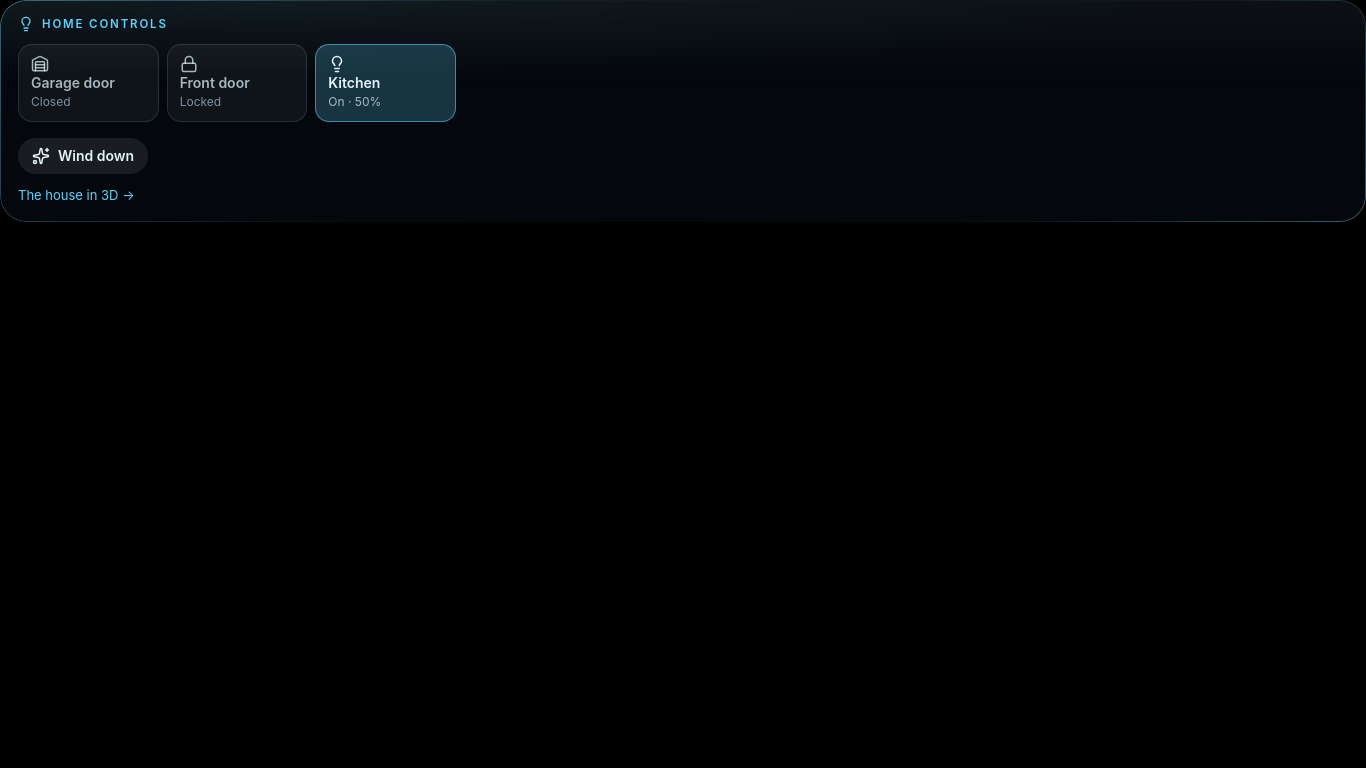
Test: <HomeControlsWidget /> › toggles a light at once, asks before the garage, and runs scenes
This screenshot has width=1366, height=768.
Click the button with aria-label "Kitchen: On · 50%" at coordinates (386, 83), box x1=315 y1=44 x2=456 y2=122
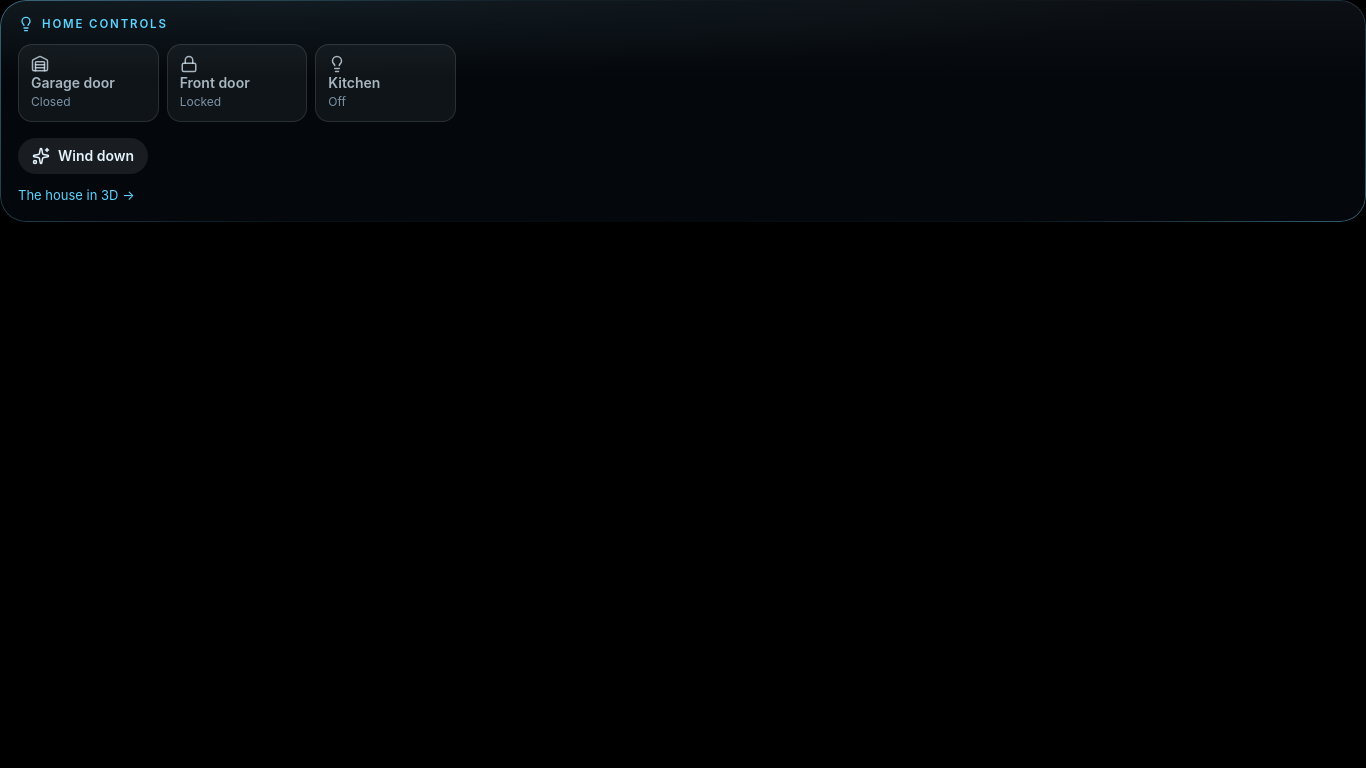
Expected: the button with aria-label "Kitchen: Off" is shown, x1=315 y1=44 x2=456 y2=122
Click the button with aria-label "Garage door: Closed" at coordinates (88, 83), box x1=18 y1=44 x2=159 y2=122
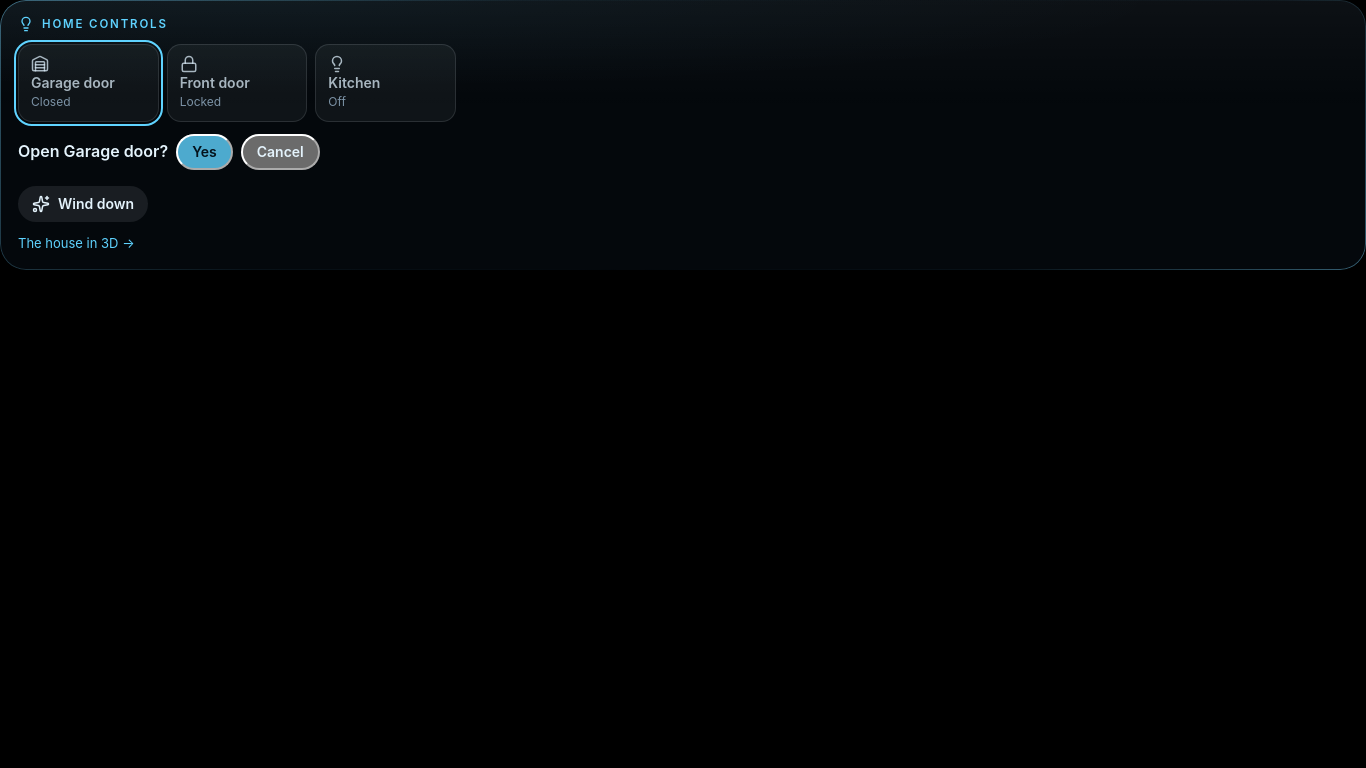
Expected: the dialog "Open Garage door?" is shown, x1=18 y1=134 x2=320 y2=170
Click the button "Yes" at coordinates (204, 152), box x1=176 y1=134 x2=233 y2=170
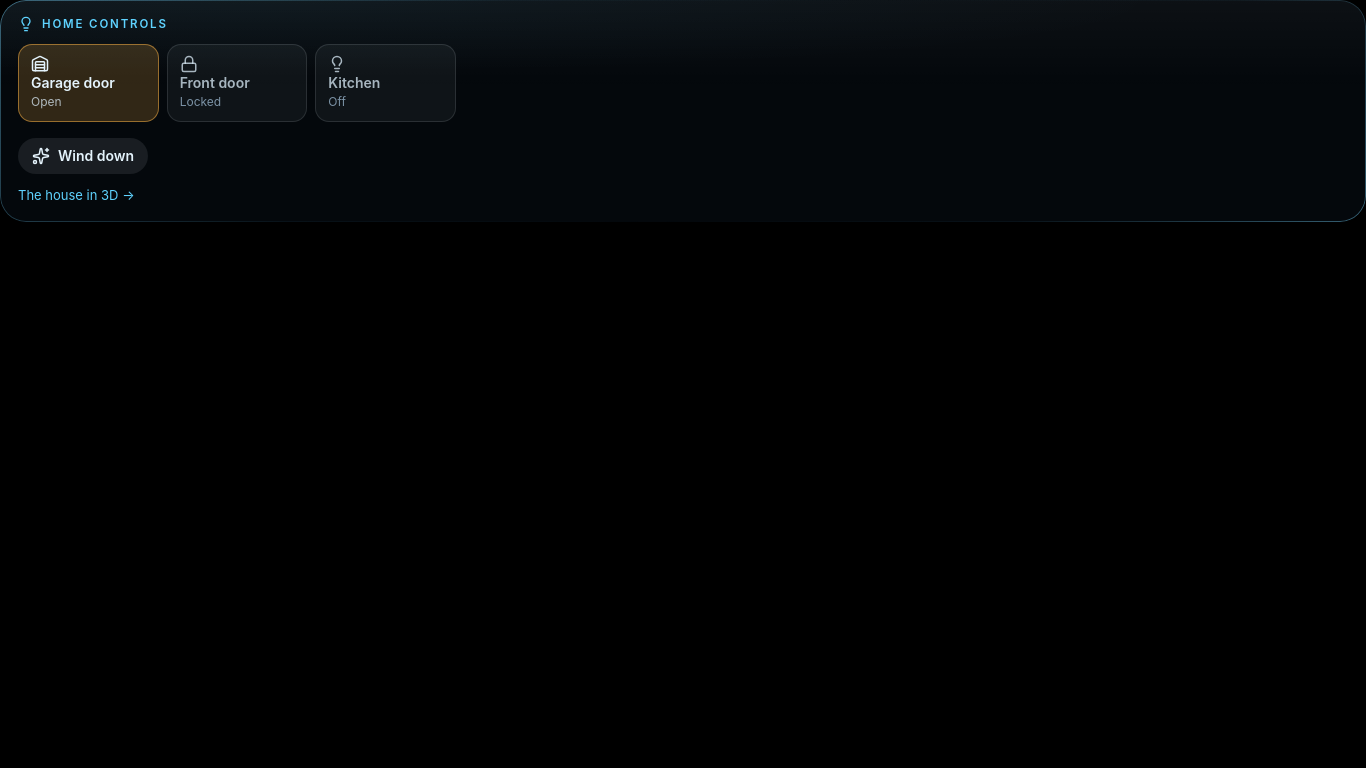
Expected: the button with aria-label "Garage door: Open" is shown, x1=18 y1=44 x2=159 y2=122
Click the button with aria-label "Front door: Locked" at coordinates (237, 83), box x1=167 y1=44 x2=307 y2=122
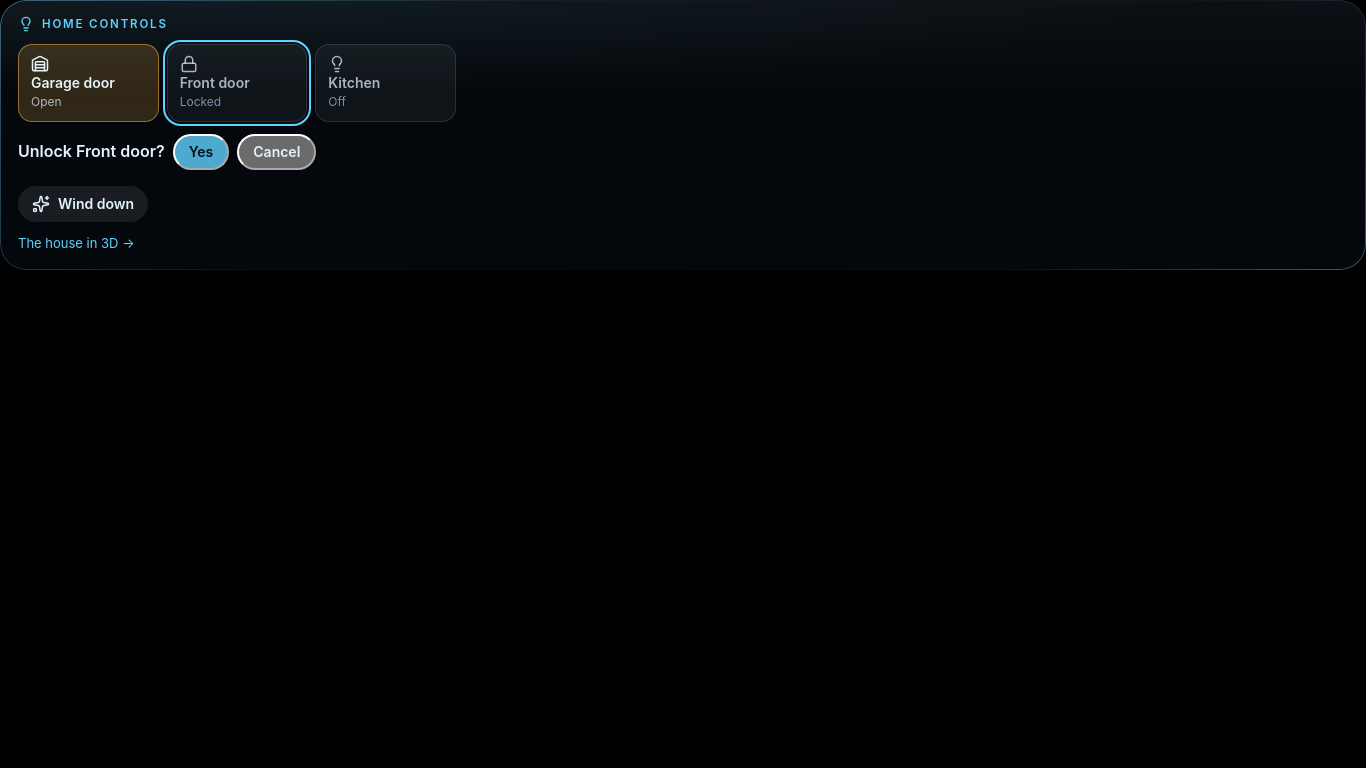
Expected: the dialog "Unlock Front door?" is shown, x1=18 y1=134 x2=316 y2=170
Click the button "Cancel" at coordinates (277, 152), box x1=237 y1=134 x2=316 y2=170
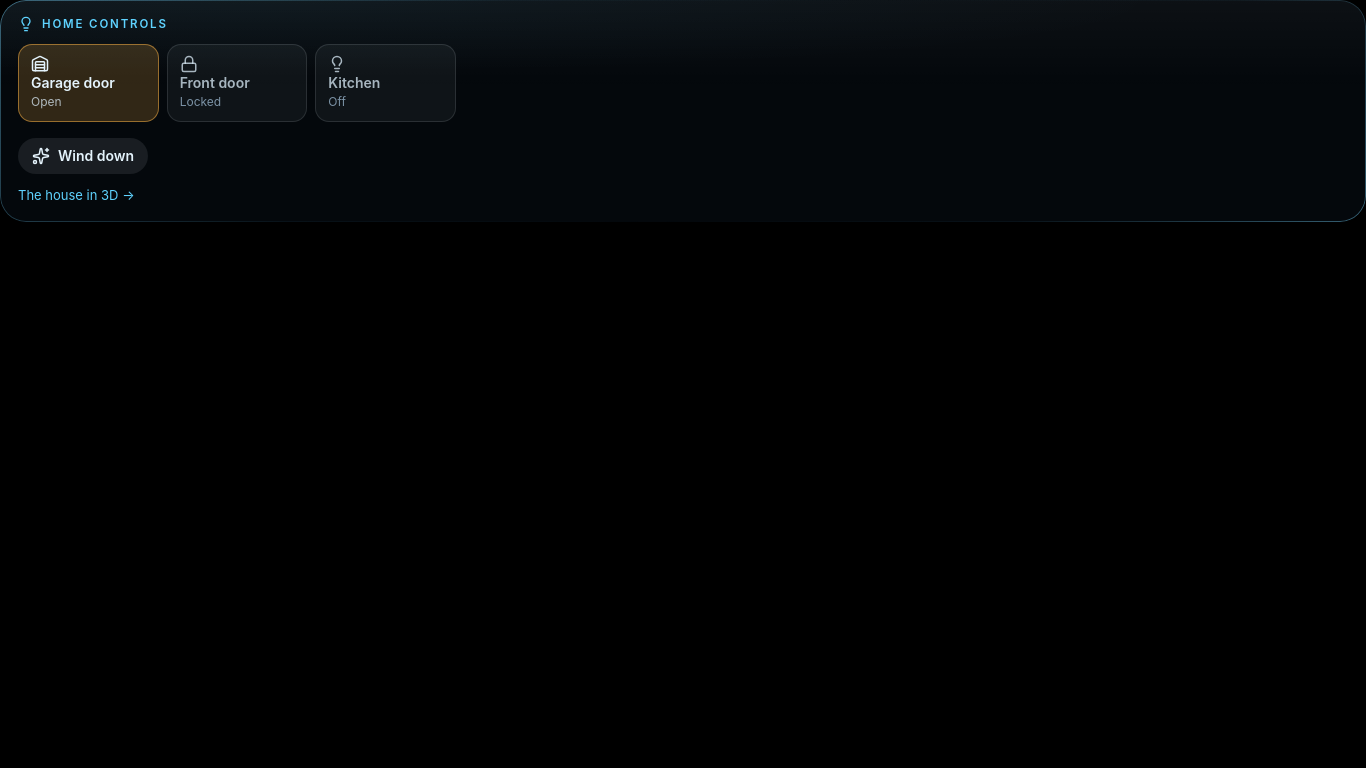
Expected: the dialog is gone
Click the button "Wind down" at coordinates (83, 156), box x1=18 y1=138 x2=148 y2=174
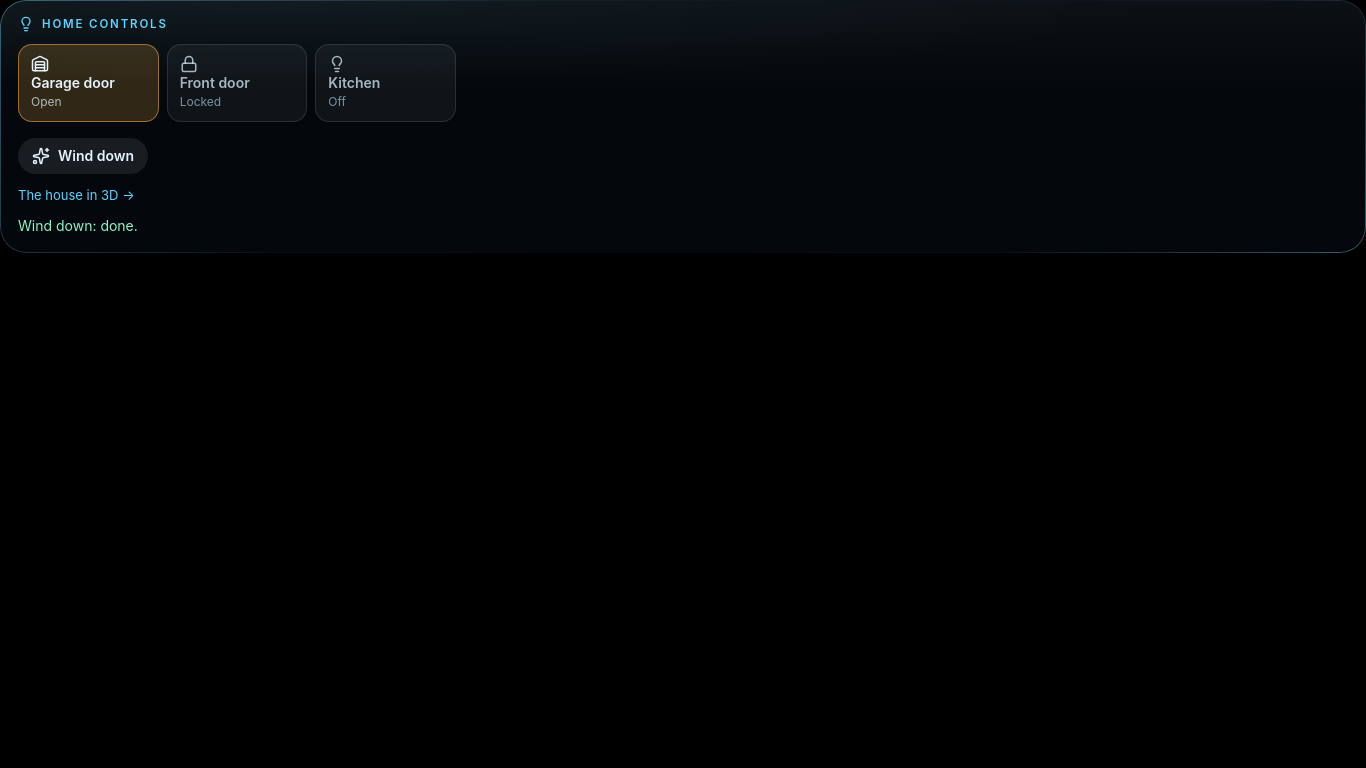
Expected: the text "Wind down: done." is shown, x1=18 y1=217 x2=138 y2=234
